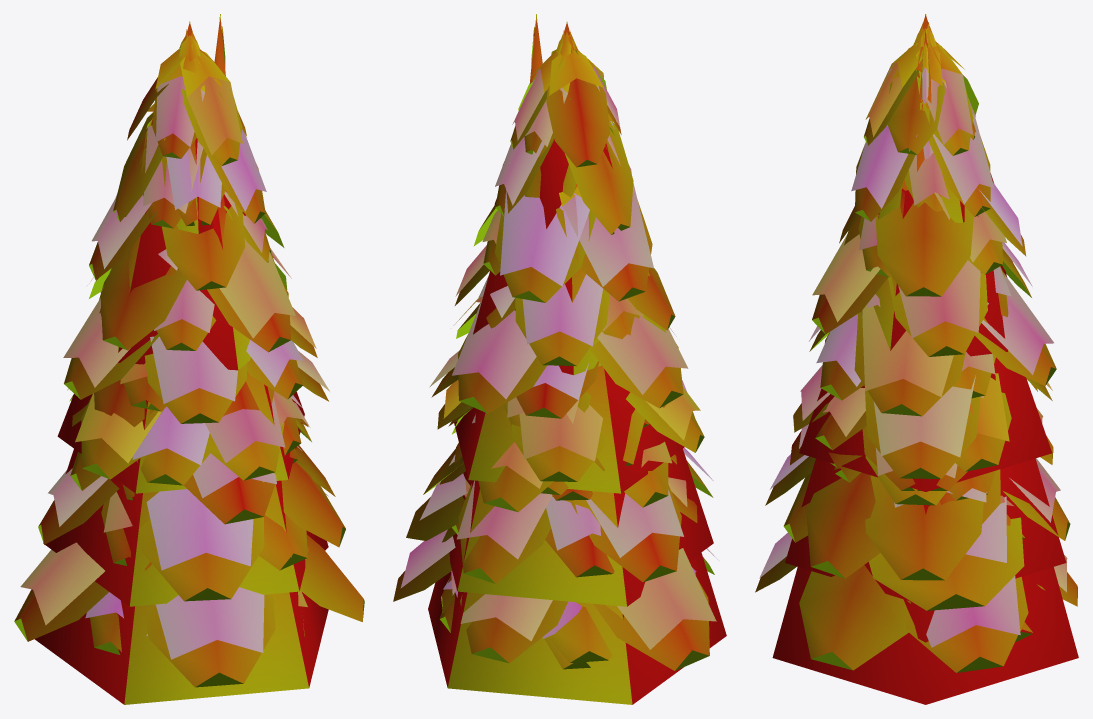
The model's file is fir.glb.
3 renders of one model, left to right at view 1: azimuth 30°, elevation 25°; view 2: azimuth 150°, elevation 25°; view 3: azimuth 270°, elevation 25°, orthographic.
Parts seen in each view (by area): view 1: v3, v2, v9, v9_far, v3_far, v2_far; view 2: v3, v2, v9, v9_far, v3_far, v2_far, v7, v5; view 3: v3, v2, v9, v9_far, v3_far, v7, v2_far, v7_far, v6.
Boxes of the visible parts, left/top/right/bottom form: v3: left=63, top=48, right=329, bottom=485; v2: left=38, top=34, right=345, bottom=601; v9: left=14, top=534, right=364, bottom=687; v9_far: left=34, top=591, right=328, bottom=704; v3_far: left=57, top=117, right=304, bottom=493; v2_far: left=43, top=23, right=313, bottom=606; v3: left=429, top=48, right=704, bottom=481; v2: left=423, top=34, right=713, bottom=583; v9: left=393, top=529, right=718, bottom=670; v9_far: left=428, top=552, right=726, bottom=704; v3_far: left=454, top=139, right=684, bottom=493; v2_far: left=449, top=23, right=713, bottom=606; v7: left=406, top=407, right=472, bottom=540; v5: left=441, top=481, right=594, bottom=669; v3: left=793, top=42, right=1056, bottom=478; v2: left=765, top=26, right=1070, bottom=580; v9: left=755, top=533, right=1077, bottom=672; v9_far: left=772, top=567, right=1078, bottom=704; v3_far: left=799, top=173, right=1052, bottom=491; v7: left=862, top=28, right=1024, bottom=610; v2_far: left=785, top=16, right=1066, bottom=601; v7_far: left=903, top=505, right=934, bottom=642; v6: left=907, top=29, right=933, bottom=603.
Size of the model in its own units: 6.78 by 13.37 by 6.3.
